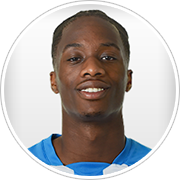face: (47, 35, 135, 111)
